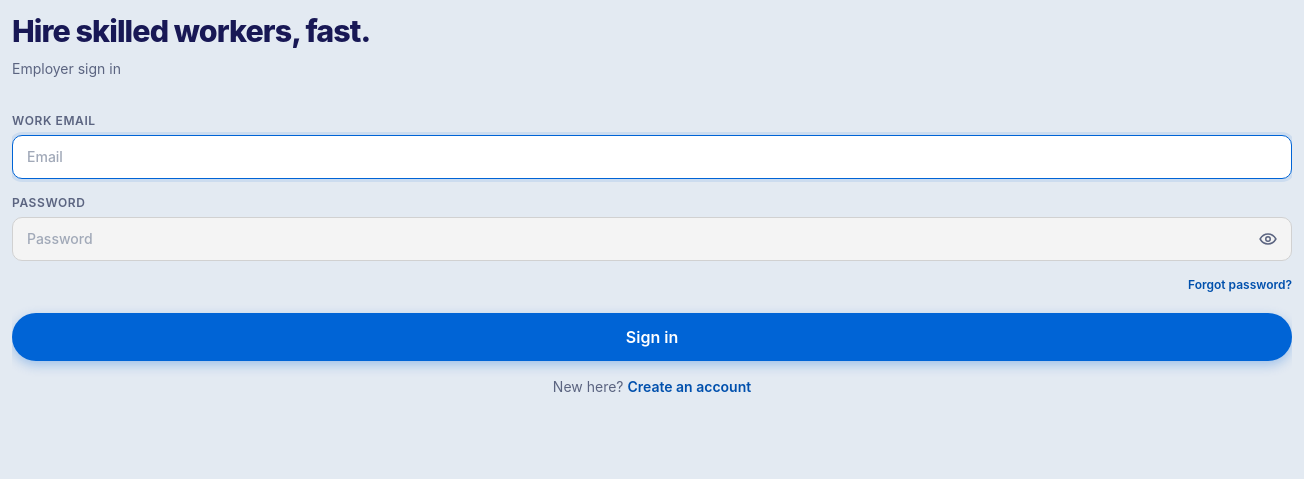
Test: EmployerAuthForm — forgot password for an unconfirmed account › keeps the reset flow when Cognito accepts the request
Click the button "Forgot password?".
click(1240, 285)  # box [1188,277,1292,293]
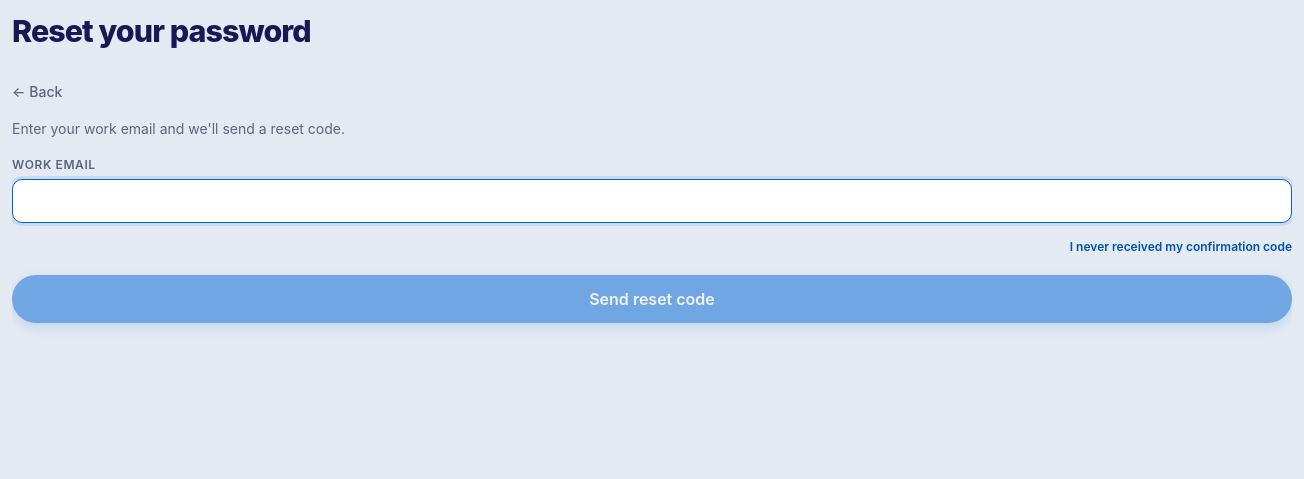
Now the heading "Reset your password" is shown, box [12,13,311,49]
Type "employer@example.com" into the field.
click(652, 201); type("employer@example.com")  # box [12,179,1292,223]
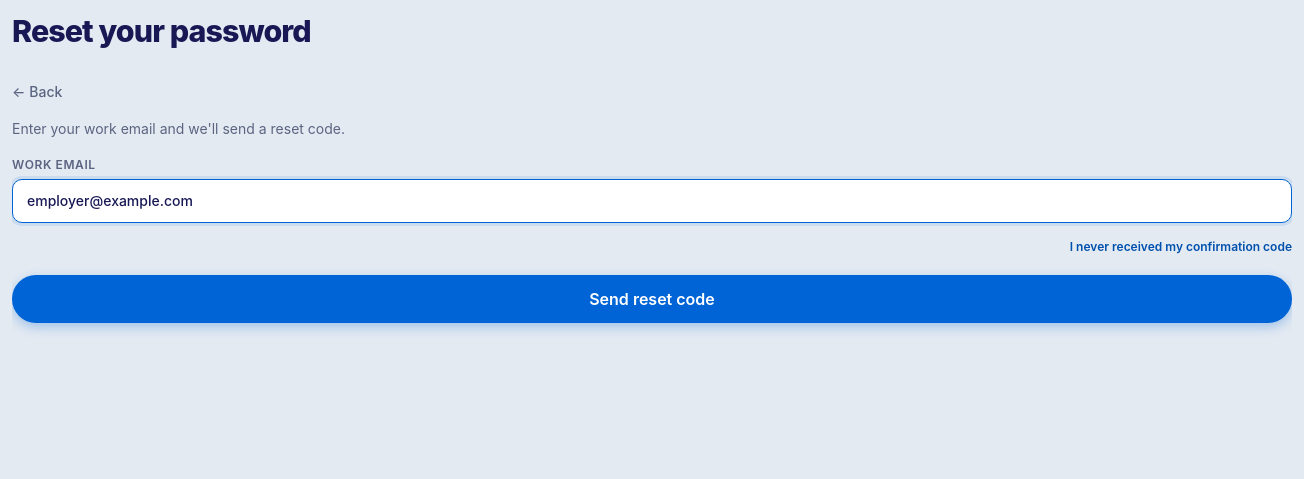
Click the button "Send reset code".
click(652, 299)  # box [12,275,1292,323]
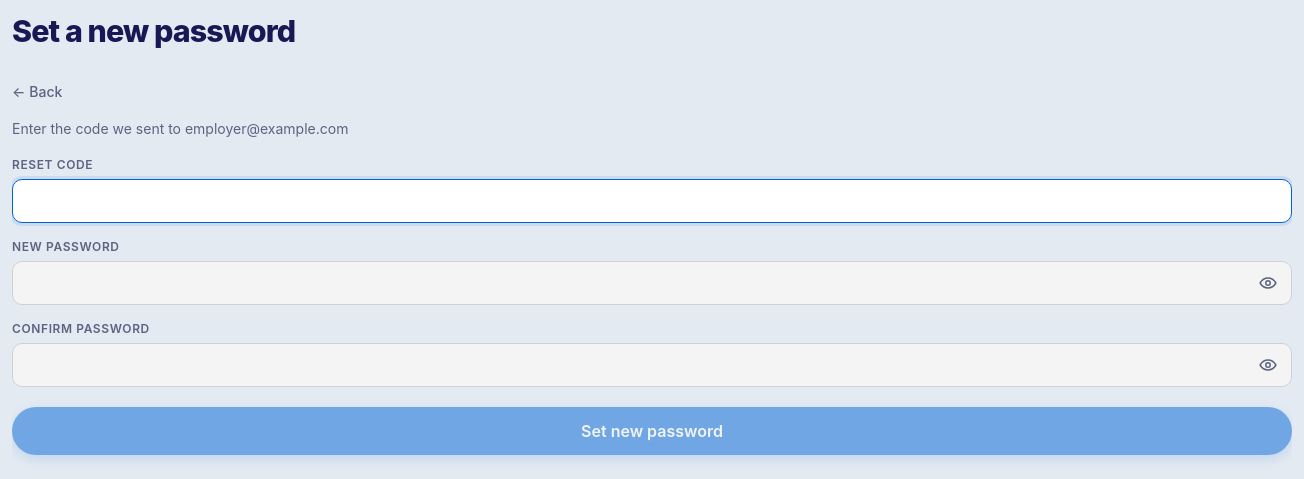
Now the heading "Set a new password" is shown, box [12,13,295,49]
